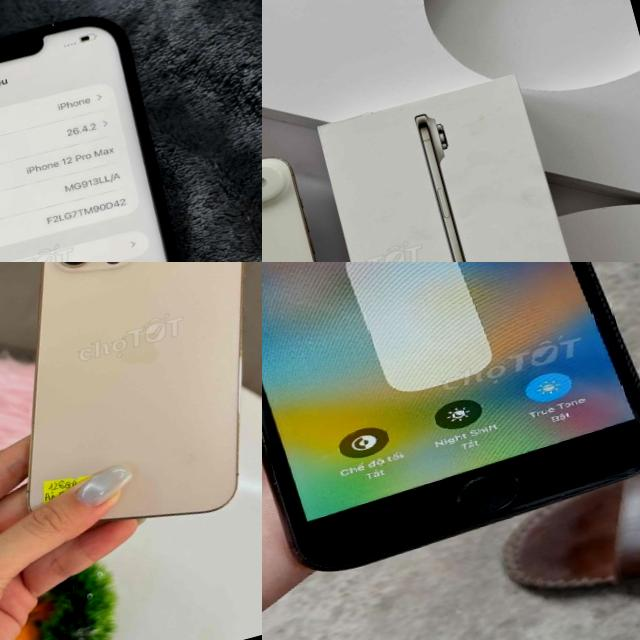scratch: (262, 262, 327, 574), (504, 454, 640, 518), (627, 422, 640, 467)
